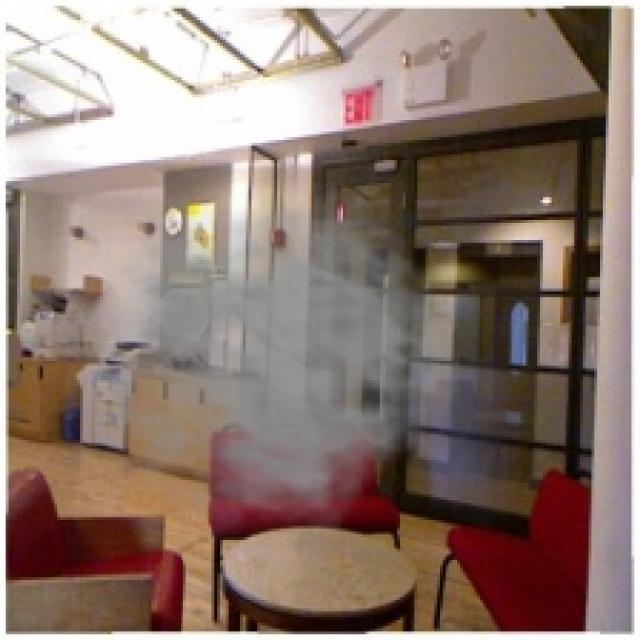Smoke: (54, 188, 463, 552)
